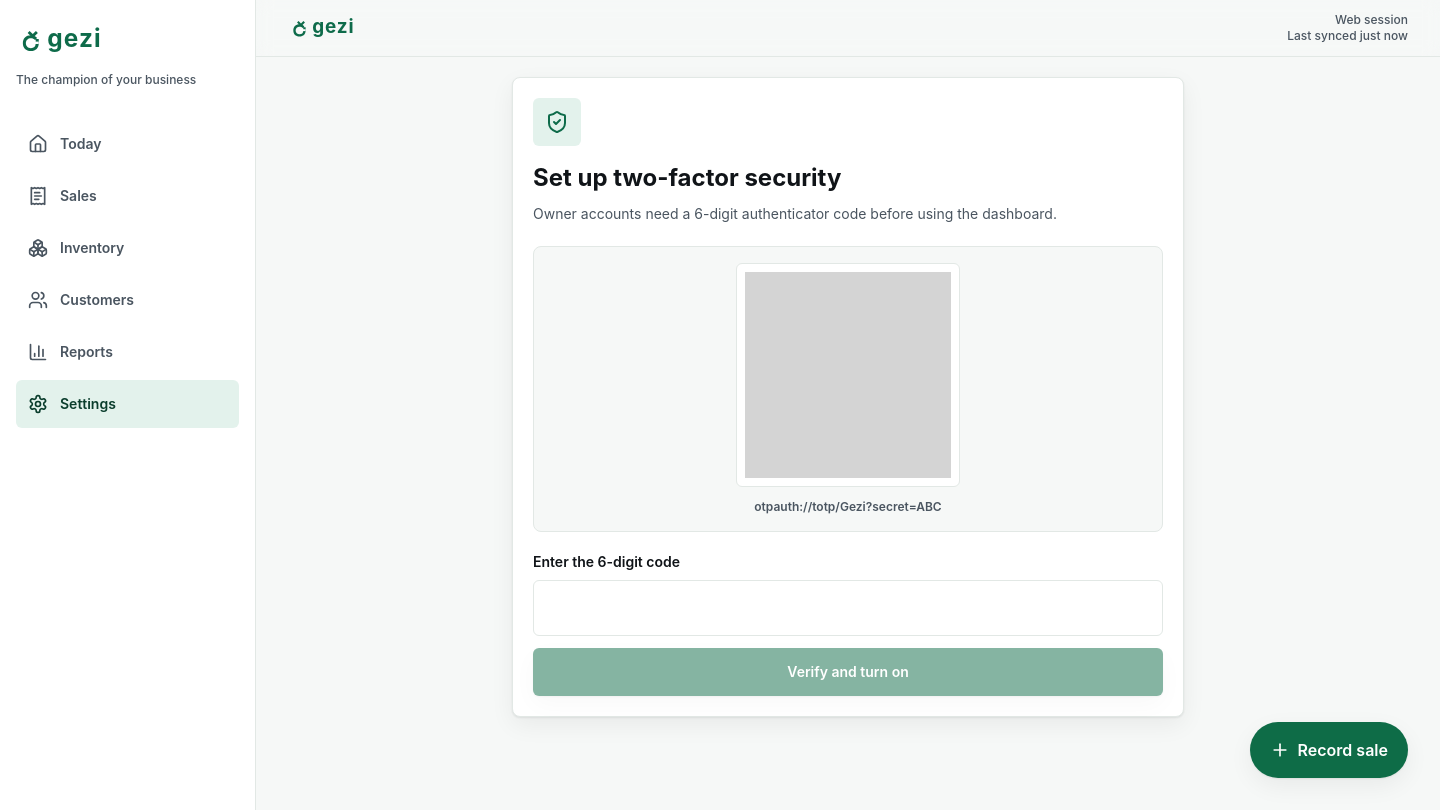
Test case: auth UI flow › setup flow lazy-renders QR, verifies, then shows recovery codes once
The width and height of the screenshot is (1440, 810).
Type "123456" into the field labelled "Enter the 6-digit code" at (848, 608), box [533,580,1163,636]
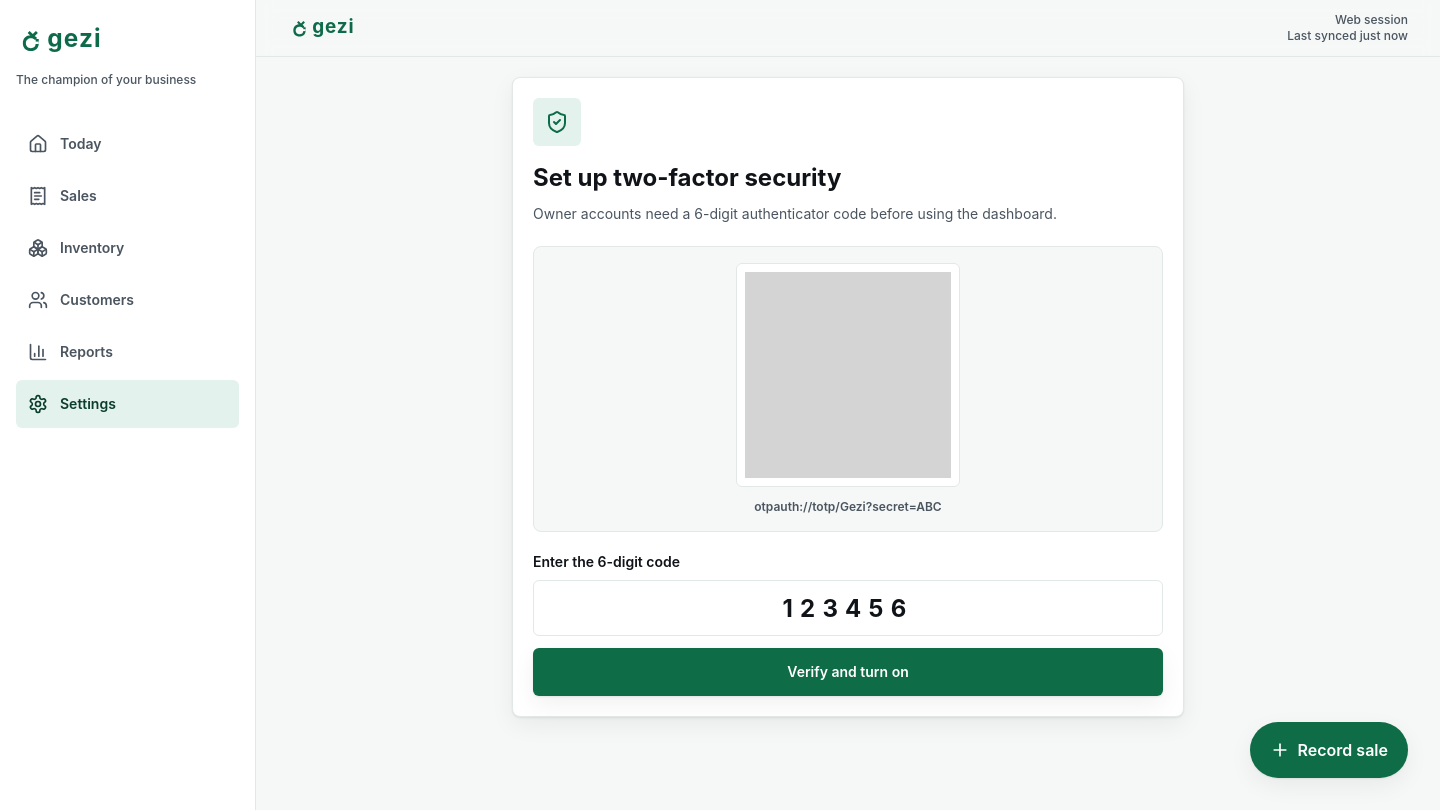
Click the button "Verify and turn on" at (848, 672), box [533,648,1163,696]
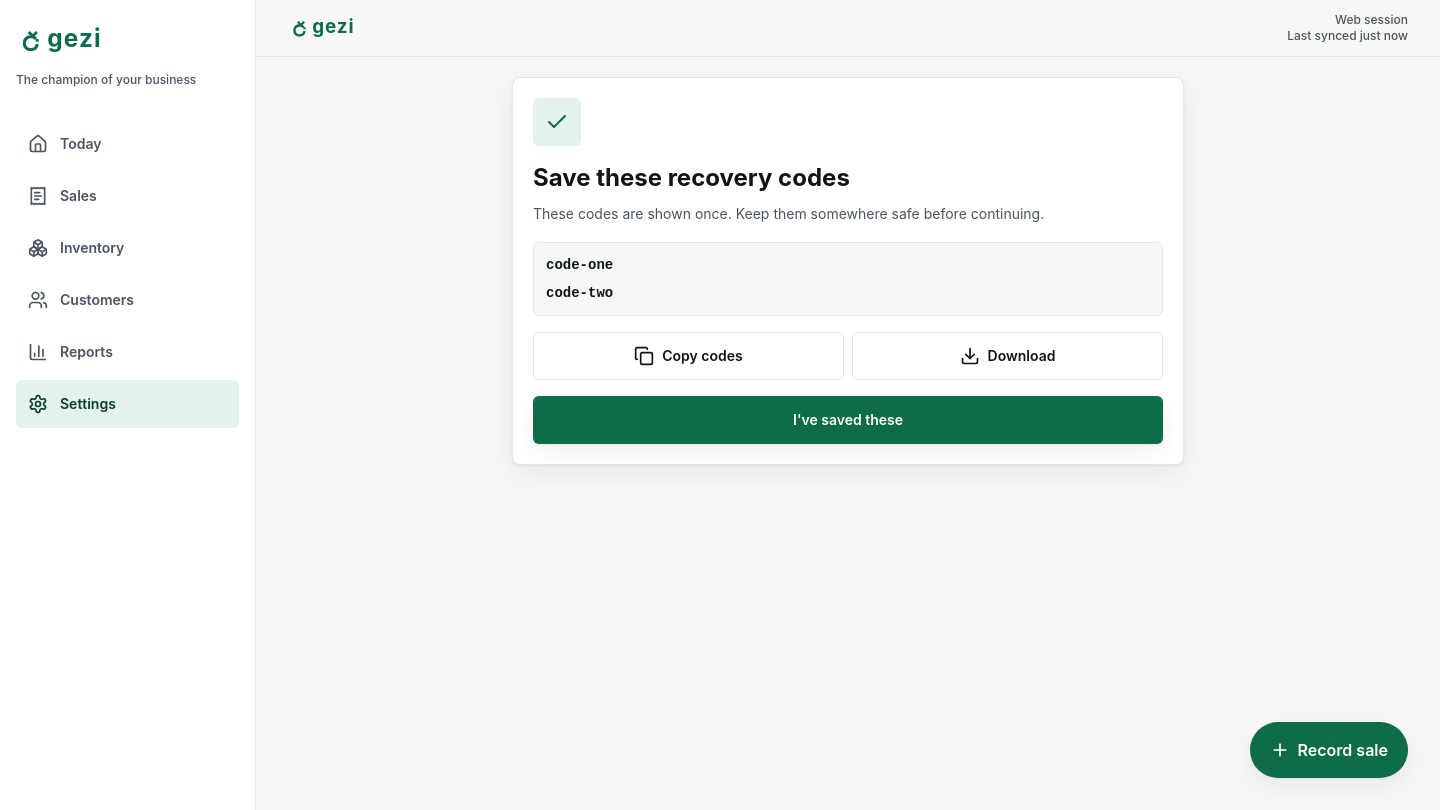
expect the heading "Save these recovery codes" is shown: met, box [533,163,850,192]
expect the text "code-one" is shown: met, box [546,257,613,273]
Click the button "Copy codes" at (688, 356), box [533,332,844,380]
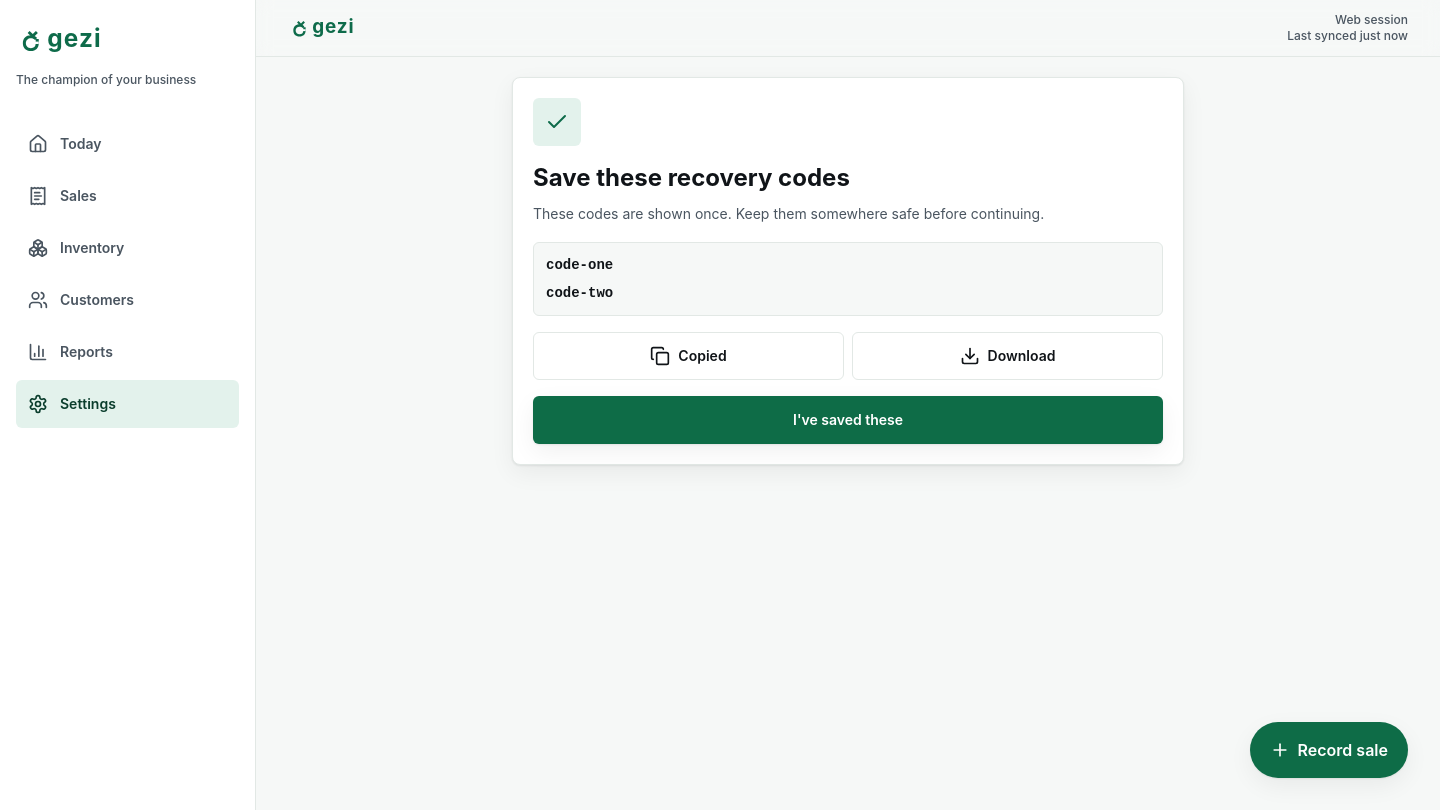
expect the button "Copied" is shown: met, box [533,332,844,380]
